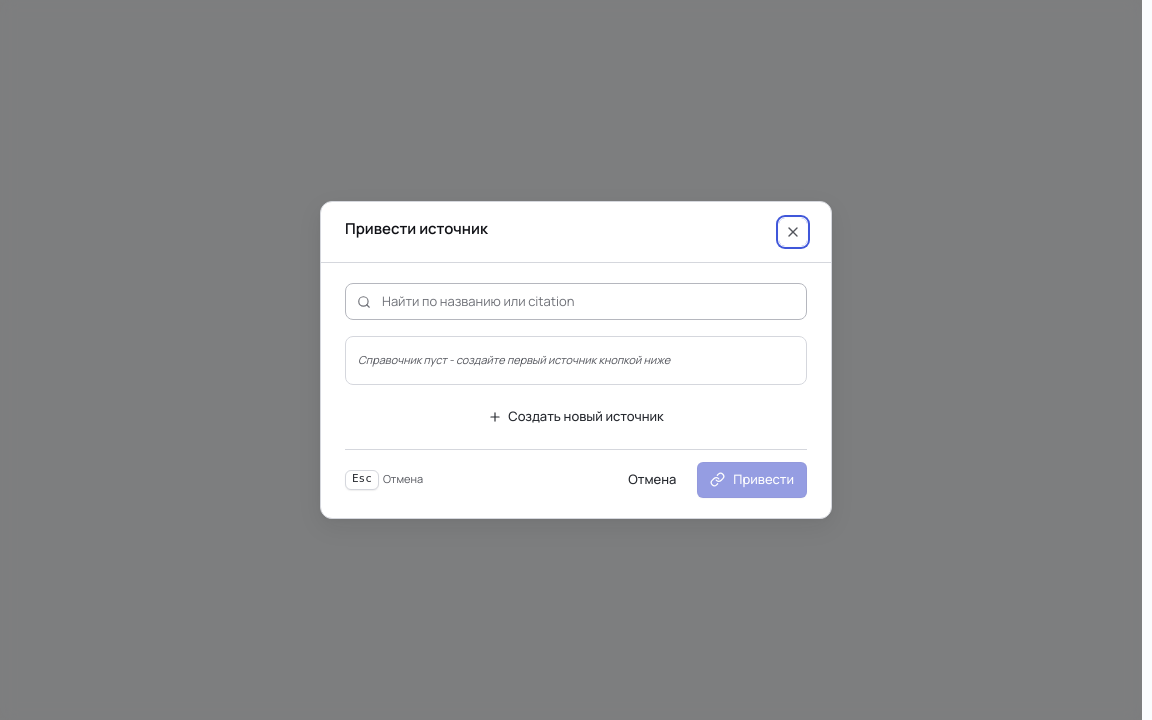
Test: AddSourceModal › create-mode › кнопка "Создать новый источник" переключает в create-mode и показывает форму
The image size is (1152, 720).
Expected: the text "Справочник пуст - создайте первый источник кнопкой ниже" is shown, [358,352,670,367]
Click the button "Создать новый источник": point(576, 417) [345,401,807,433]
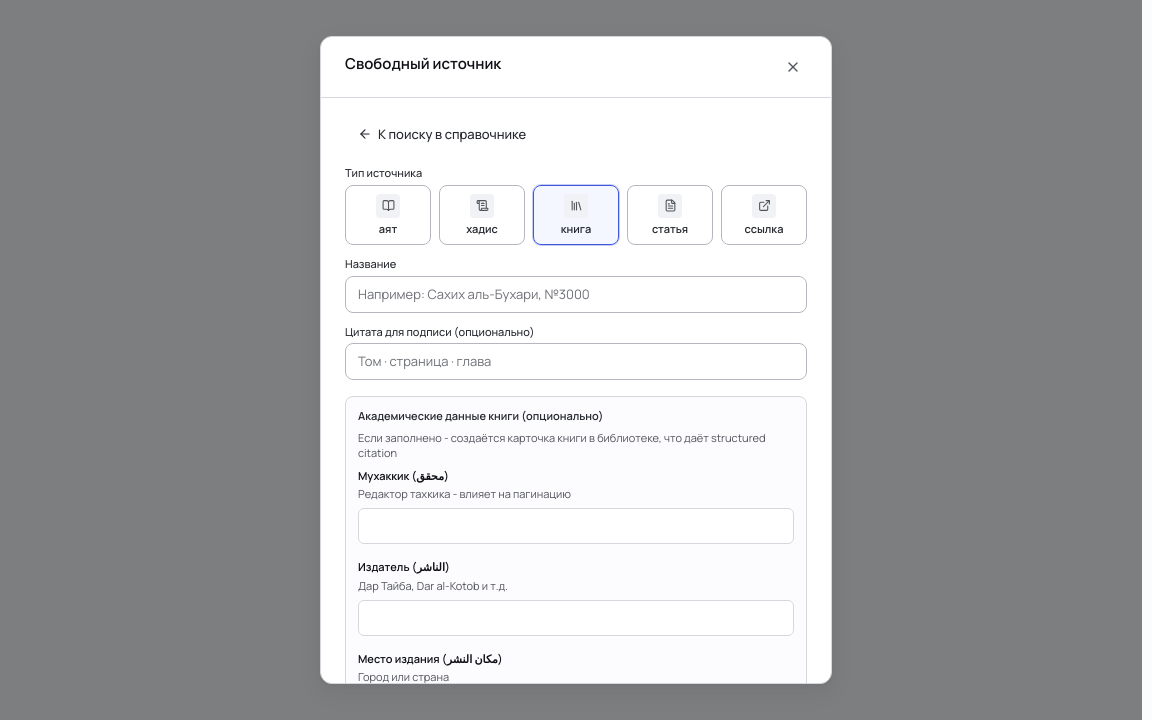
Expected: the heading "Свободный источник" is shown, [345,53,501,74]
Expected: the field labelled "Название" is shown, [345,276,807,313]
Expected: the field labelled "Цитата для подписи (опционально)" is shown, [345,343,807,380]
